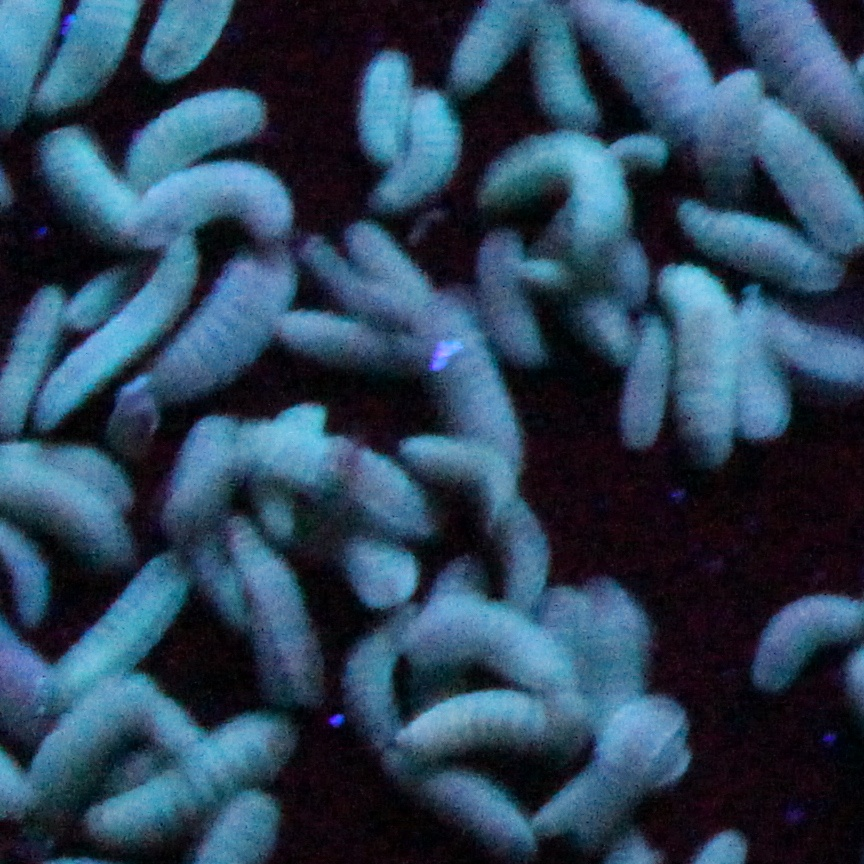larve: (29, 248, 195, 424), (79, 707, 290, 838), (148, 244, 295, 409), (540, 694, 692, 846), (37, 548, 198, 683), (650, 263, 752, 470), (233, 421, 417, 528), (671, 190, 851, 298), (475, 134, 632, 250), (132, 139, 305, 235), (229, 534, 325, 706), (371, 692, 576, 767), (420, 583, 570, 685), (415, 302, 519, 444), (37, 123, 139, 241), (125, 87, 258, 173), (340, 35, 414, 173), (406, 422, 520, 507), (327, 613, 408, 729), (286, 312, 408, 384), (10, 263, 59, 434), (613, 318, 671, 457), (53, 255, 147, 329), (168, 412, 226, 530), (404, 91, 459, 215)
